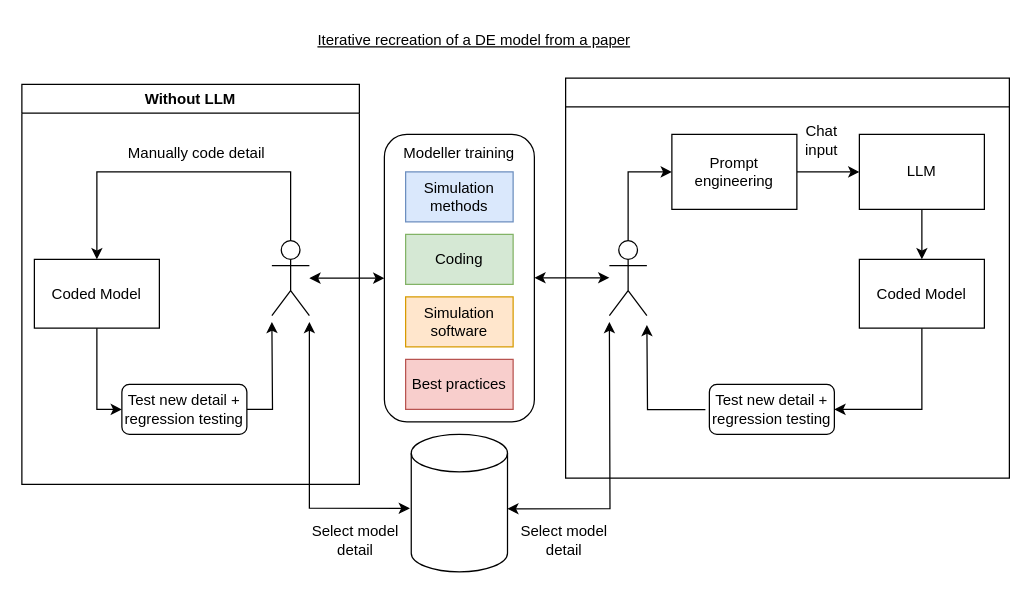
This 1031x594 diagram has some shape labels left out. The centre of each missing label's shape, as x and y in pixels:
Published textual description of model: the point at 459,502
With LLM: the point at 786,277
